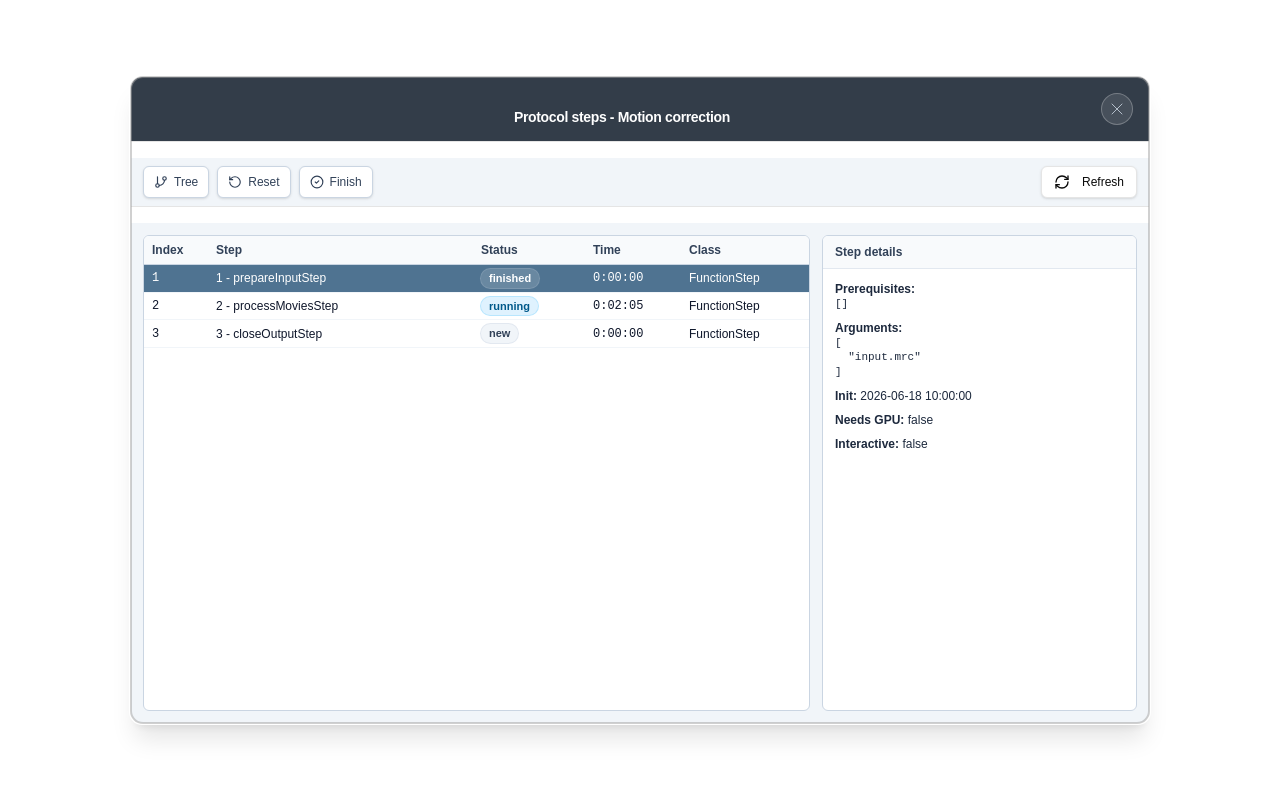
Test: ProtocolStepsDeveloperDialog › selects another step when clicking its row
Check: the text "1 - prepareInputStep" is shown, box [216,271,326,285]
Click the text "2 - processMoviesStep": {"x": 277, "y": 306} [216,299,338,313]
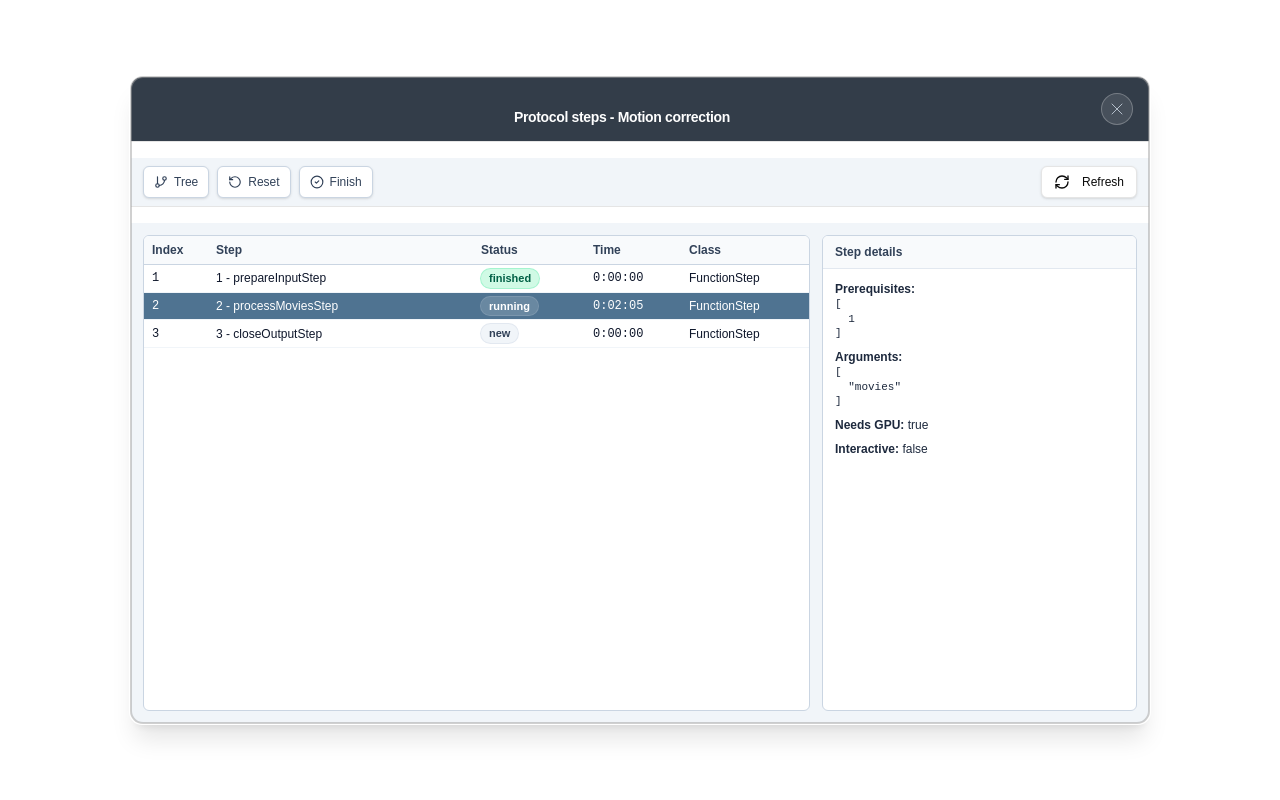
Check: the text "Step details" is shown, box [835,245,902,259]
Check: the text "true" is shown, box [908,418,928,432]
